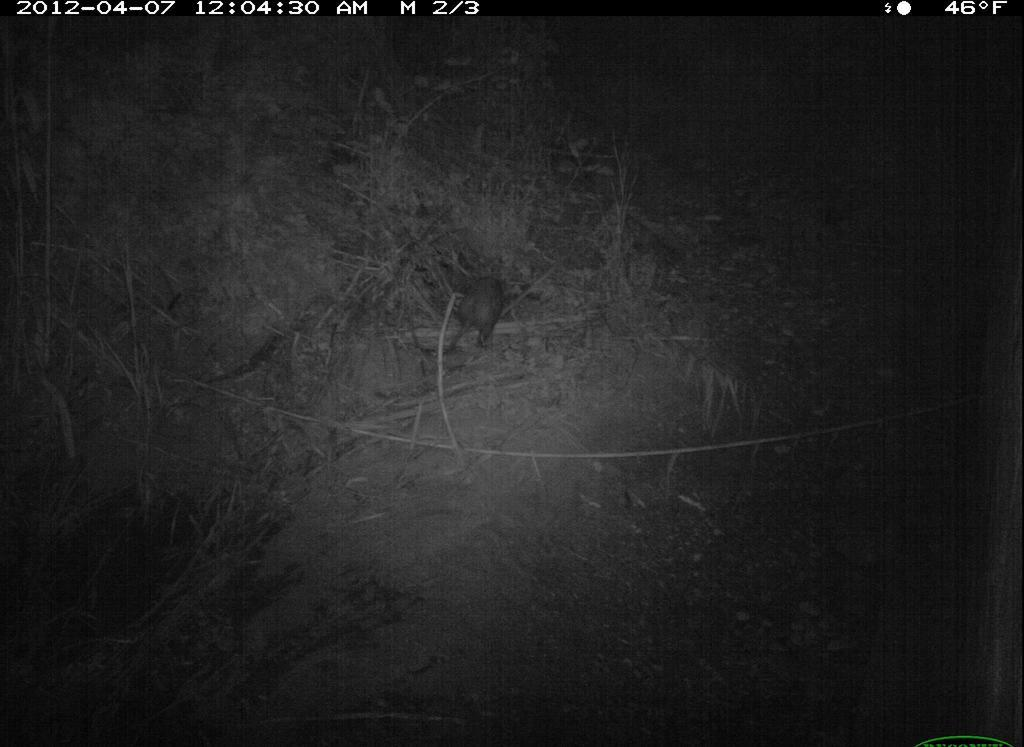opossum: (427, 268, 516, 360)
